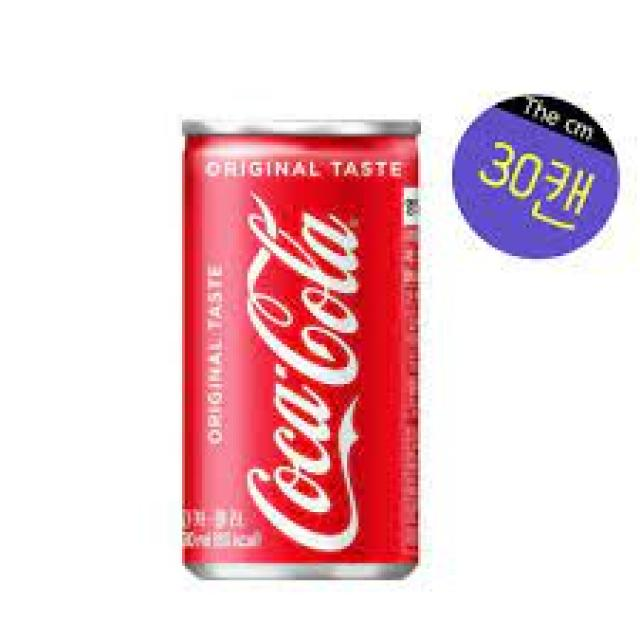Coca-Cola: (174, 106, 428, 589)
